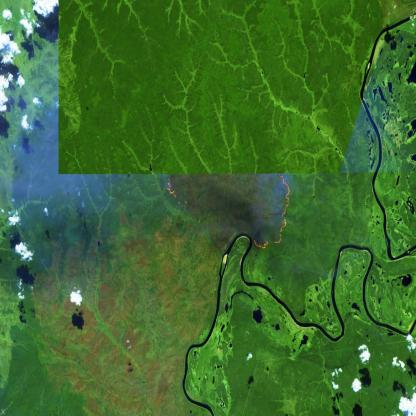fire: (248, 171, 296, 256), (164, 175, 202, 226)
